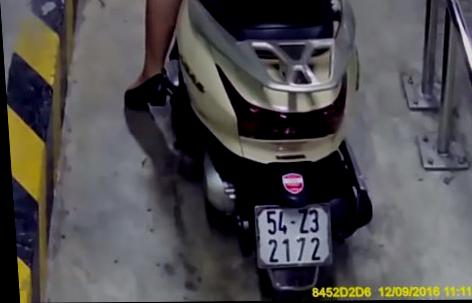License_Plate: (245, 195, 342, 271)
